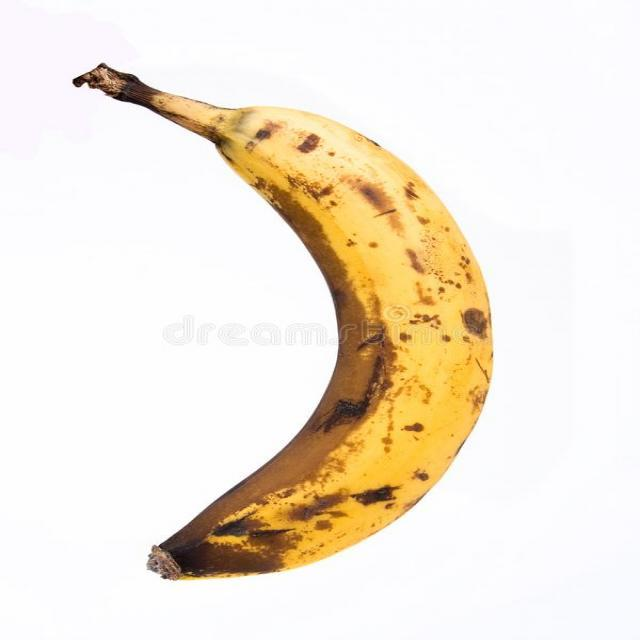Banana: (65, 60, 509, 582)
